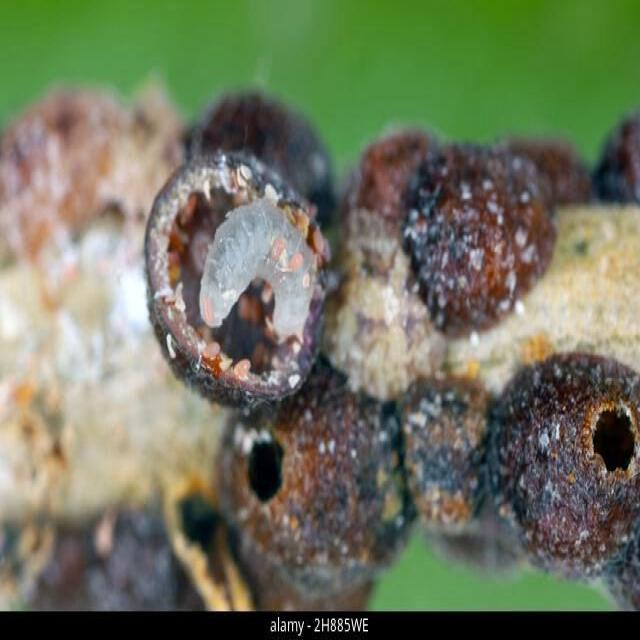Black Scale: (146, 93, 335, 418), (219, 357, 415, 607), (486, 355, 639, 596), (402, 146, 555, 335), (402, 377, 489, 531)
